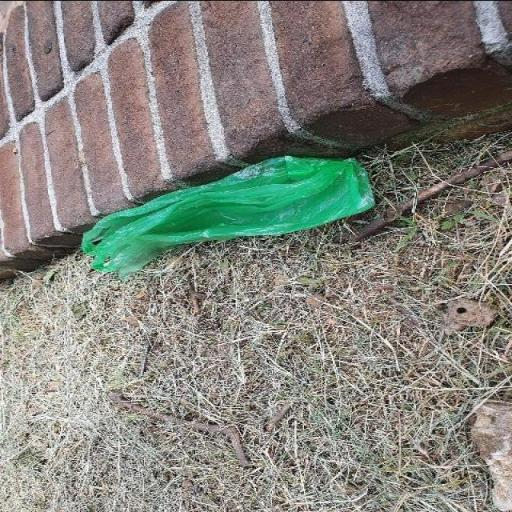plastic-bag: (80, 150, 378, 280)
